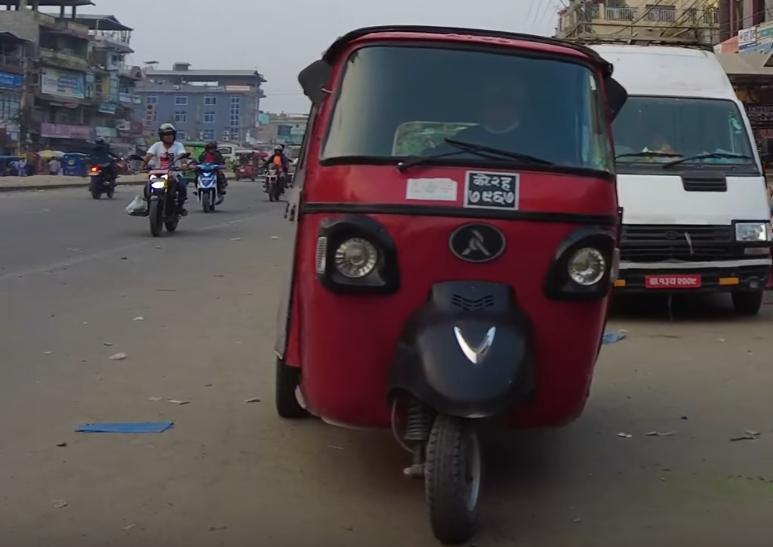auto_rickshaw: (271, 22, 628, 547)
bike: (136, 157, 194, 243), (86, 156, 118, 202)
e-rickshaw: (229, 145, 262, 182)
micro_bus: (573, 27, 773, 327)
scooter: (192, 159, 225, 216)
